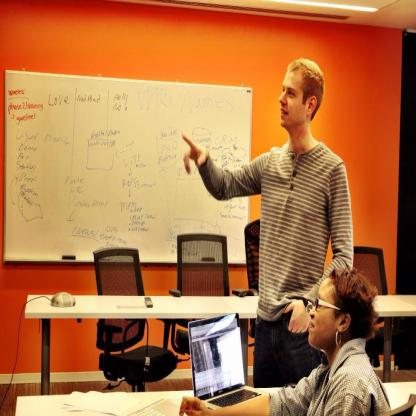board: (188, 312, 265, 410)
